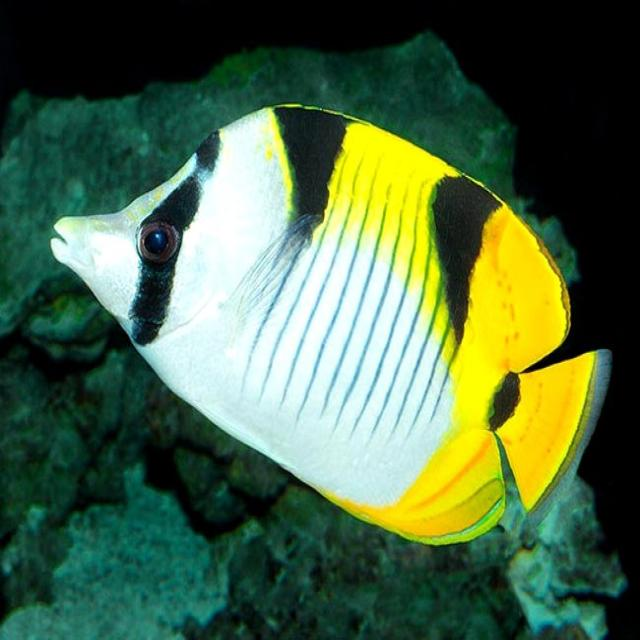ButterflyFish: (50, 100, 605, 548)
